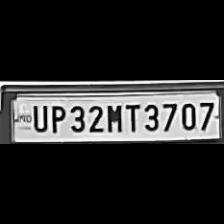0: (178, 99, 196, 130)
2: (84, 102, 104, 134)
3: (139, 100, 159, 132), (66, 102, 86, 132)
7: (158, 100, 178, 132), (196, 99, 214, 131)
M: (104, 101, 124, 133)
P: (47, 102, 65, 134)
T: (124, 101, 140, 133)
U: (28, 103, 48, 132)
